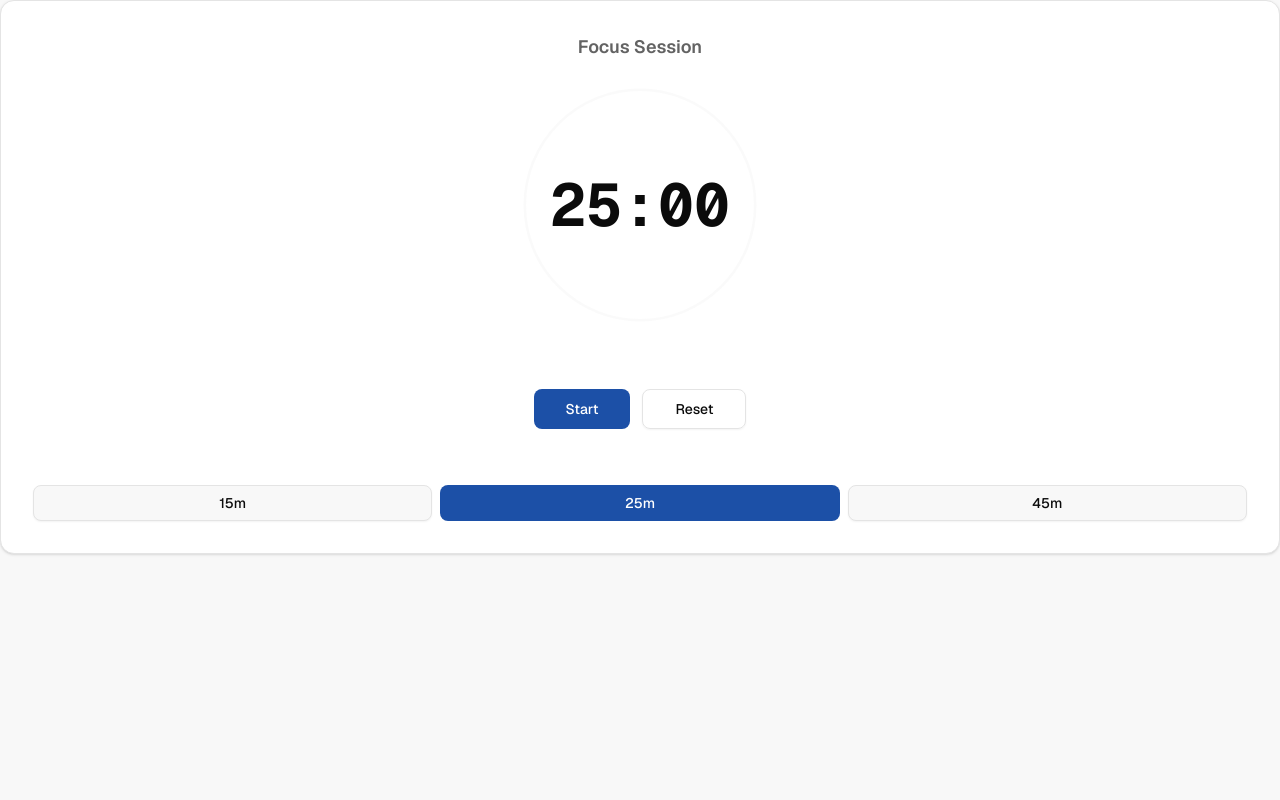
it: FocusTimer › allows changing session duration
Click the button "15m". click: (233,503)
box: [33,485,432,521]
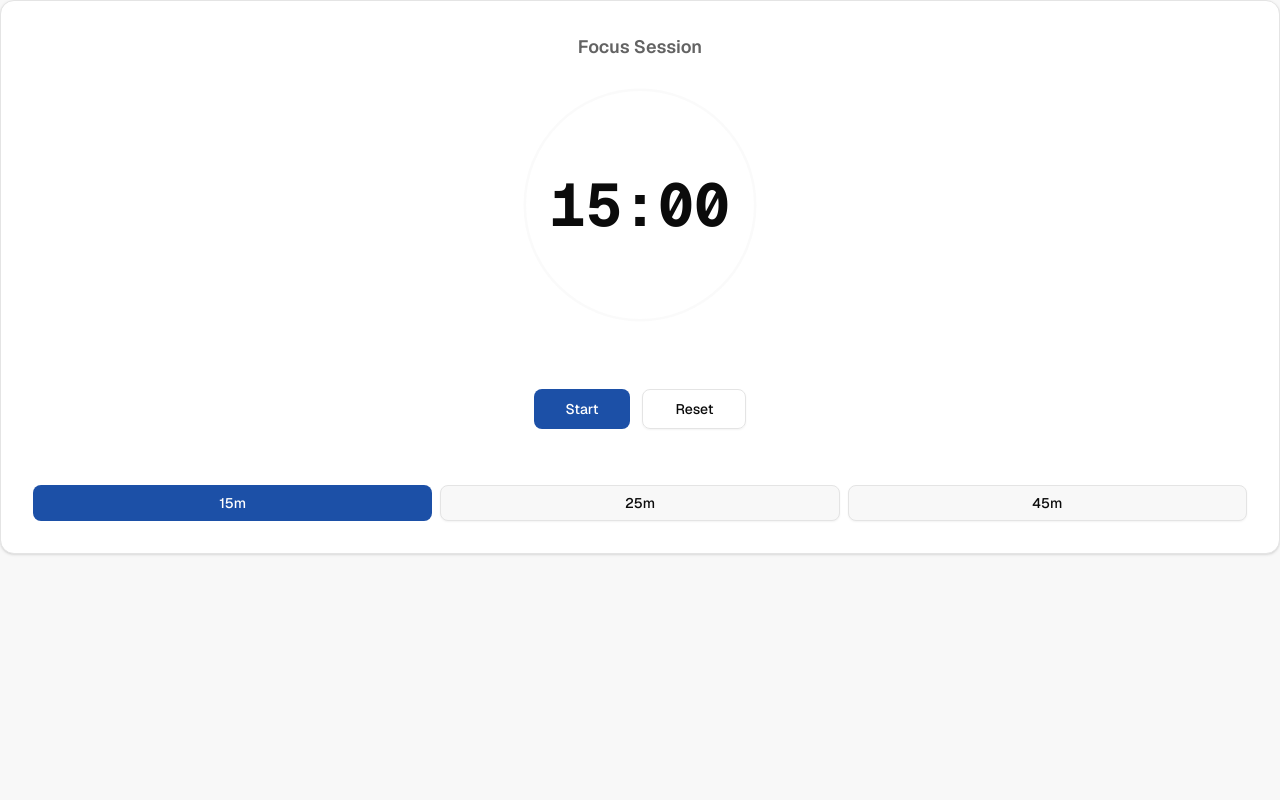
Expected: the text "15:00" is shown, [550,175,730,235]
